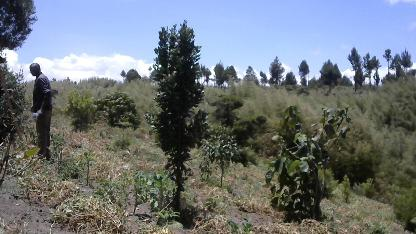person: (26, 58, 60, 165)
tree: (151, 18, 214, 213), (263, 95, 353, 223)
